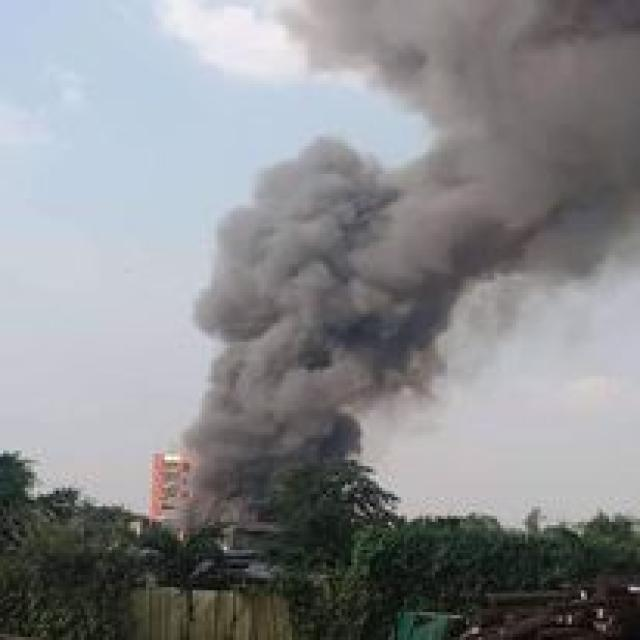Smoke: (194, 229, 429, 496), (312, 3, 640, 164), (281, 168, 618, 290)
